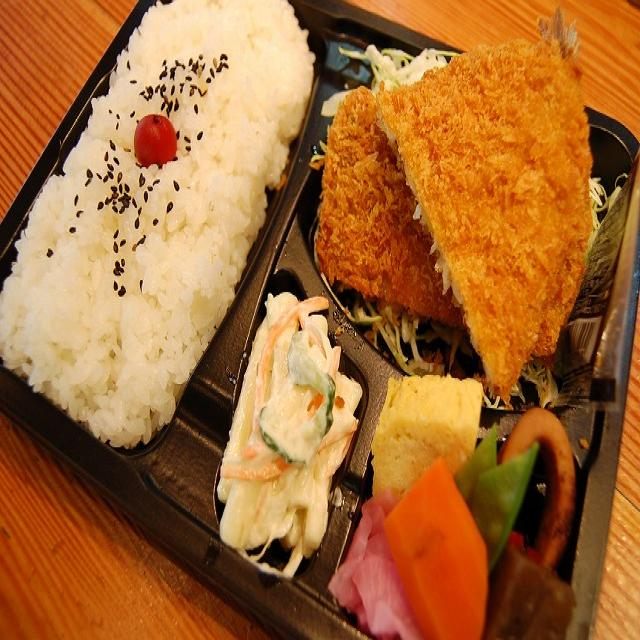炸货点心: (304, 15, 640, 383)
熟制海鲜: (304, 15, 640, 383)
